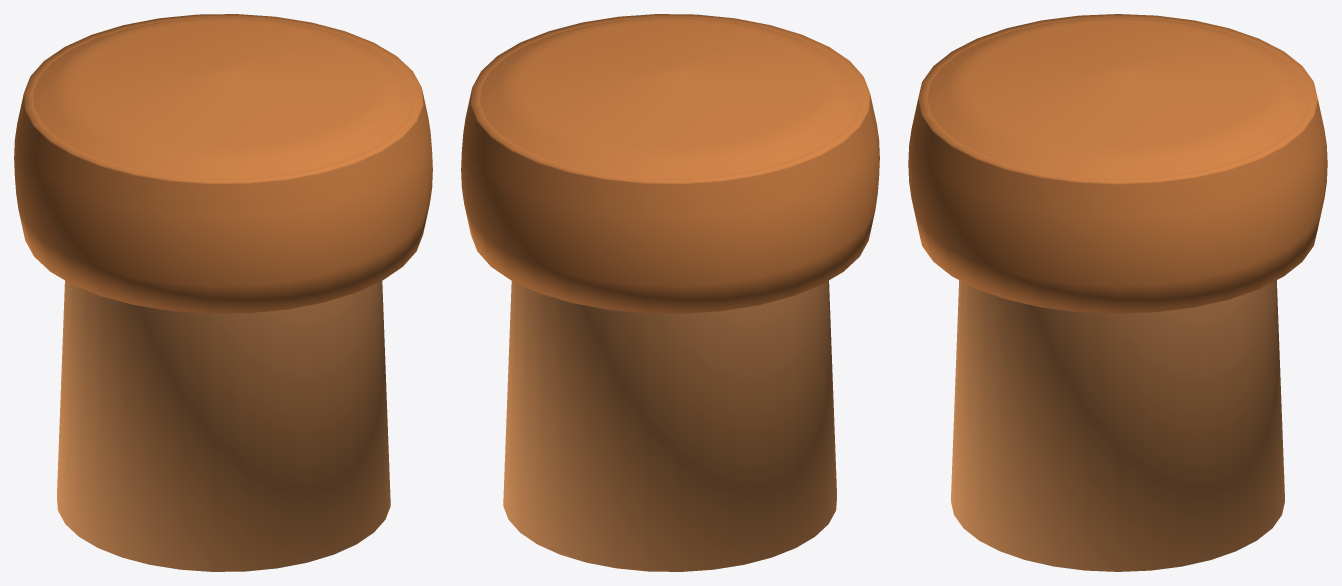
Rendered from Cork03.fbx.
3 views of the same model, side by side, from view 1: azimuth 30°, elevation 25°; view 2: azimuth 150°, elevation 25°; view 3: azimuth 270°, elevation 25° (orthographic).
Visible parts, largest first — view 1: Cork.002; view 2: Cork.002; view 3: Cork.002.
Part boxes in pixels (x1,y1,x2,y2): Cork.002: (14,14,432,571); Cork.002: (461,14,879,571); Cork.002: (908,14,1327,571).
Bounding box in the file's own units: 195 × 221 × 195.
